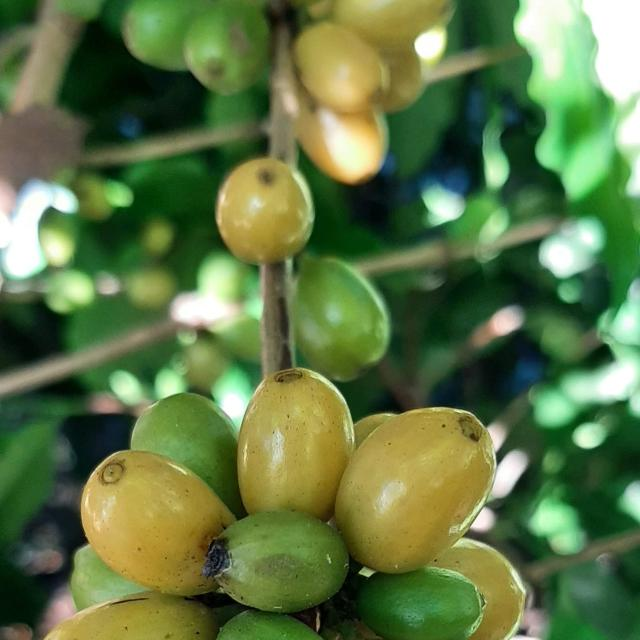green: (203, 511, 349, 614), (130, 393, 246, 520), (293, 257, 391, 382), (357, 568, 486, 640), (183, 0, 270, 94), (121, 0, 210, 70), (69, 545, 147, 612), (216, 611, 323, 640)
yellow: (335, 408, 497, 575), (237, 368, 355, 522), (216, 157, 314, 264), (430, 540, 527, 640), (297, 85, 388, 184), (43, 593, 218, 640), (295, 21, 382, 112), (333, 0, 453, 45), (376, 42, 425, 111), (354, 413, 396, 450)
